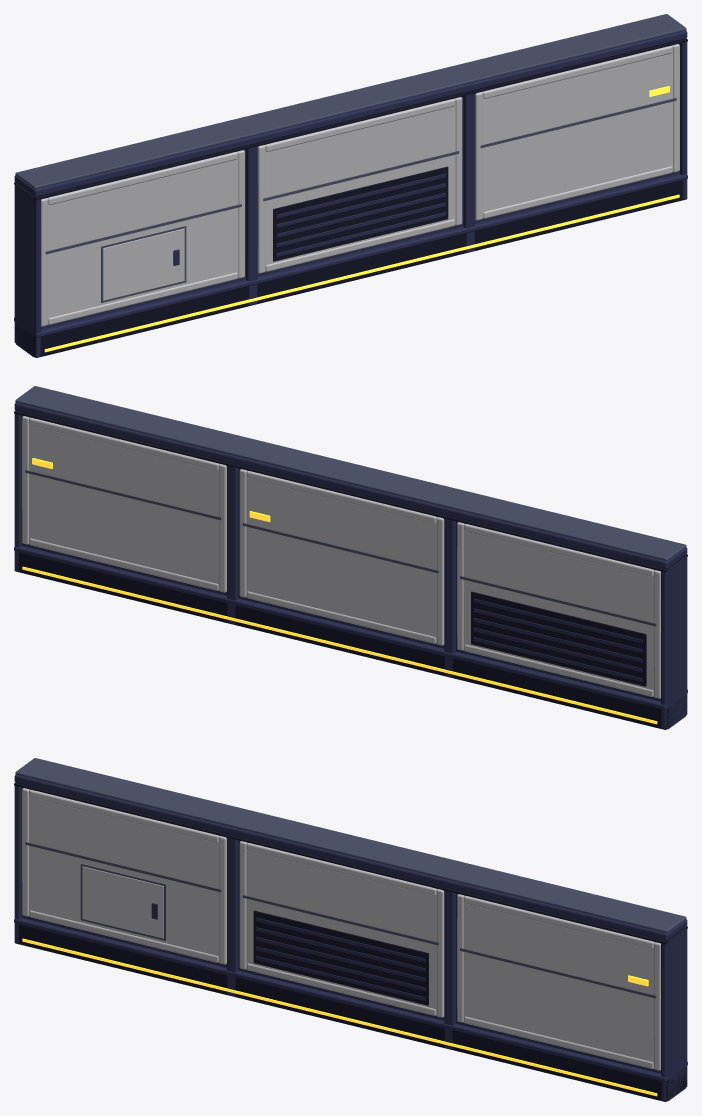
Rendered from int.halfwall.l4.500.glb.
3 views of the same model, one above another, from view 1: azimuth 30°, elevation 25°; view 2: azimuth 150°, elevation 25°; view 3: azimuth 330°, elevation 25° (orthographic).
Visible parts, largest first — view 1: int.halfwall.l4.500; view 2: int.halfwall.l4.500; view 3: int.halfwall.l4.500.
Boxes of the visible parts, <box> form: int.halfwall.l4.500: <box>14,14,687,357</box>; int.halfwall.l4.500: <box>14,386,687,729</box>; int.halfwall.l4.500: <box>14,758,687,1101</box>.
Bounding box in the file's own units: 4.51 × 1.13 × 0.278.
